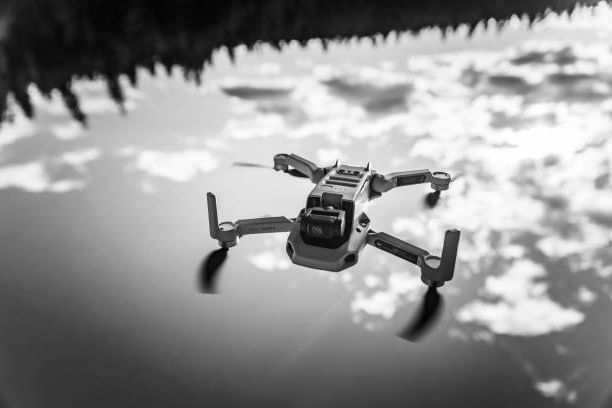Drone: (190, 147, 468, 344)
